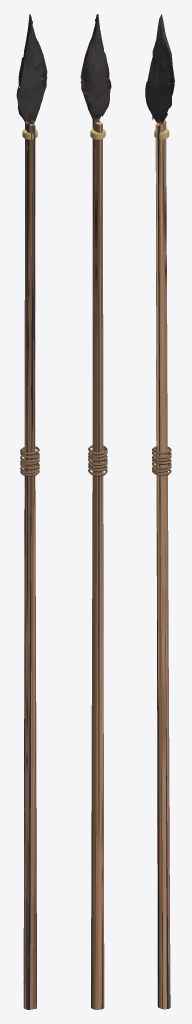
File: weap_germanic_spear_1.glb
3 renders of one model, left to right at view 1: azimuth 30°, elevation 25°; view 2: azimuth 210°, elevation 25°; view 3: azimuth 330°, elevation 25°, orthographic.
Visible parts, largest first — view 1: MeshyGear_weap_germanic_spear, Q_LE0_RepairThong; view 2: MeshyGear_weap_germanic_spear, Q_LE0_RepairThong, Q_GE3_SocketBand; view 3: MeshyGear_weap_germanic_spear, Q_LE0_RepairThong.
Part boxes in pixels (<box>): MeshyGear_weap_germanic_spear: <box>16,14,47,1009</box>; Q_LE0_RepairThong: <box>20,446,39,476</box>; MeshyGear_weap_germanic_spear: <box>80,14,111,1009</box>; Q_LE0_RepairThong: <box>88,445,107,476</box>; Q_GE3_SocketBand: <box>90,128,105,139</box>; MeshyGear_weap_germanic_spear: <box>145,14,174,1009</box>; Q_LE0_RepairThong: <box>152,446,171,475</box>.
Bounding box in the file's own units: 0.0633 × 2 × 0.0362.
Materials: 3 (1 with a texture image).
